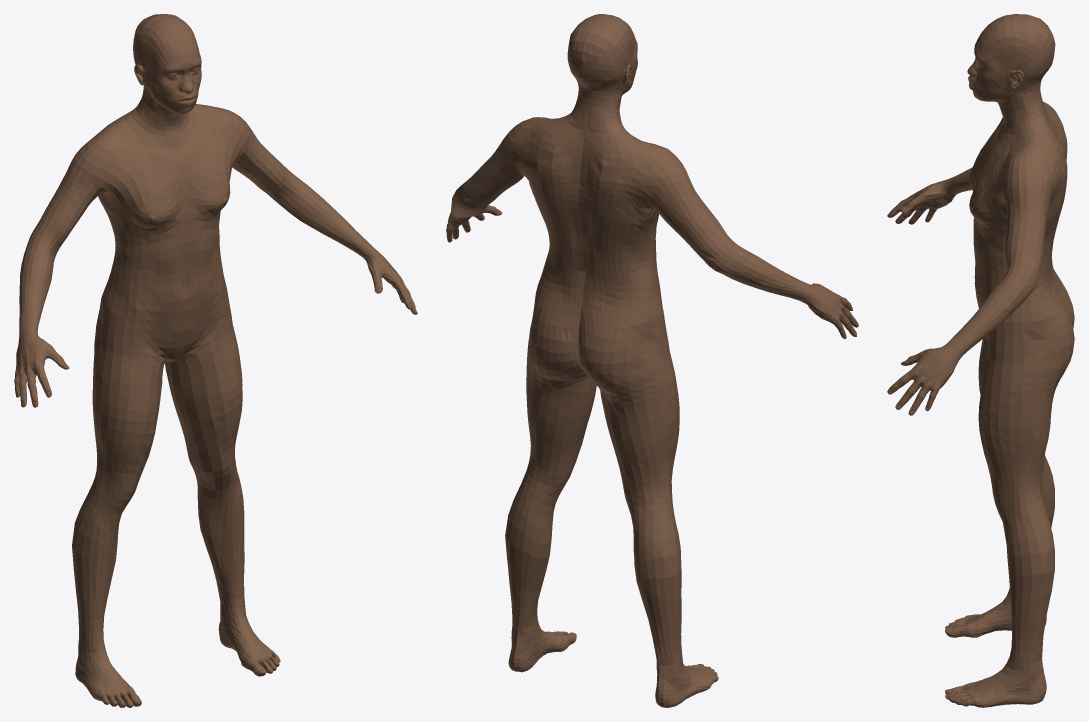
Rendered from manequin.glb.
3 renders of one model, left to right at view 1: azimuth 30°, elevation 25°; view 2: azimuth 150°, elevation 25°; view 3: azimuth 270°, elevation 25°, orthographic. The views are drawn at different scales.
Parts seen in each view (by area): view 1: Node1; view 2: Node1; view 3: Node1.
Boxes of the visible parts, bbox=[...] form: Node1: bbox=[14, 14, 417, 707]; Node1: bbox=[446, 14, 858, 707]; Node1: bbox=[887, 14, 1074, 707].
Bounding box in the file's own units: 11.07 × 17.42 × 4.55.
